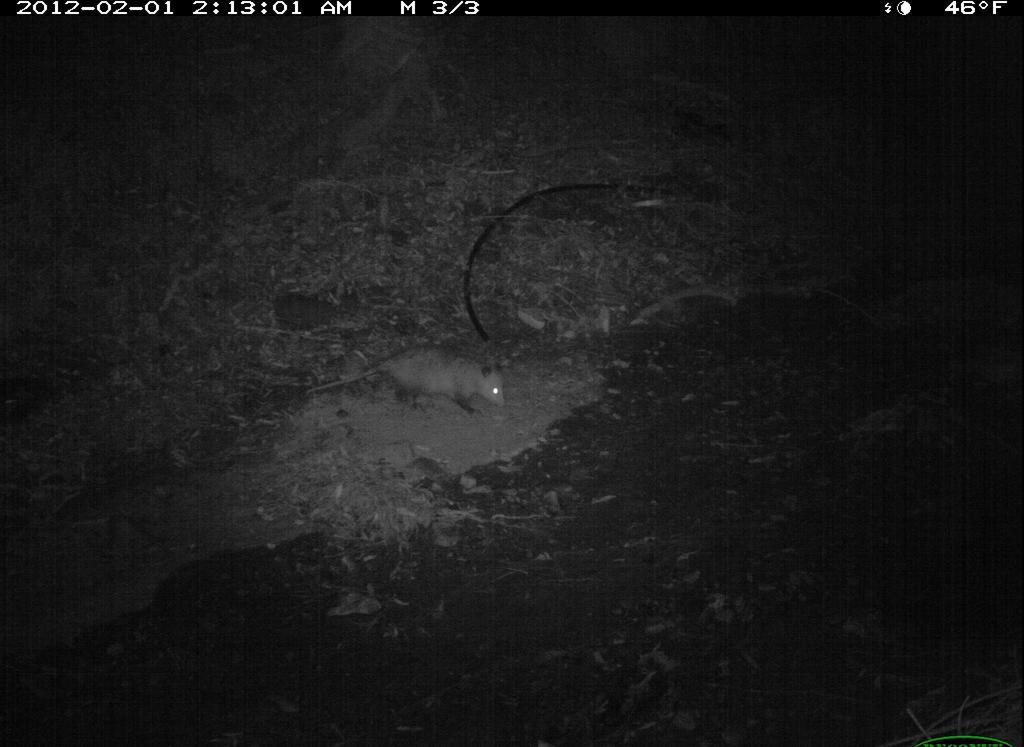opossum: (304, 349, 518, 429)
